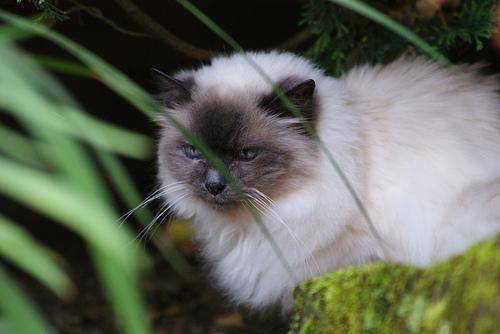cat: (150, 48, 500, 313)
